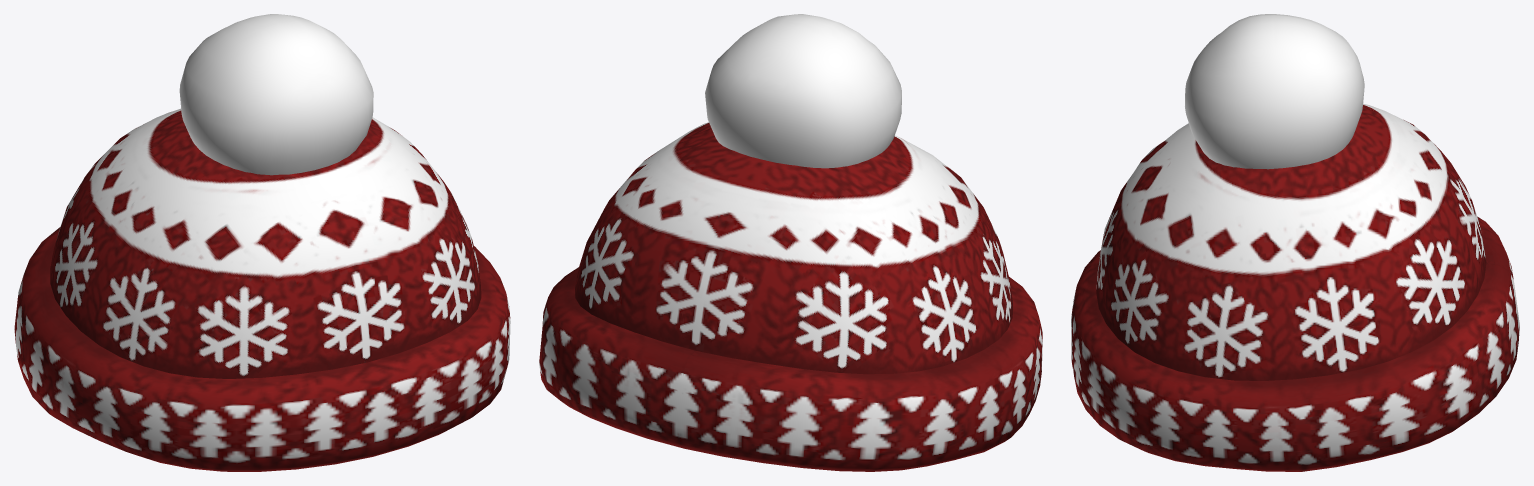
The model's file is doodad_winter_hat.fbx.
3 renders of one model, left to right at view 1: azimuth 30°, elevation 25°; view 2: azimuth 150°, elevation 25°; view 3: azimuth 270°, elevation 25°, orthographic. The views are drawn at different scales.
Parts seen in each view (by area): view 1: doodad_winter_hat; view 2: doodad_winter_hat; view 3: doodad_winter_hat.
Boxes of the visible parts, x1,y1,x2,y2 form: doodad_winter_hat: (14, 14, 510, 471); doodad_winter_hat: (539, 14, 1042, 471); doodad_winter_hat: (1071, 14, 1519, 471).
Bounding box in the file's own units: 0.4063 × 0.3313 × 0.3742.
